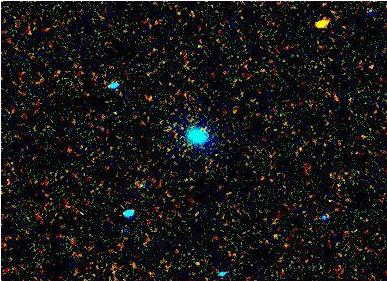star: (305, 4, 335, 34)
